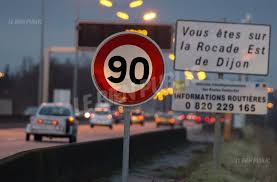Speed_limit_90km: (92, 32, 165, 107)
